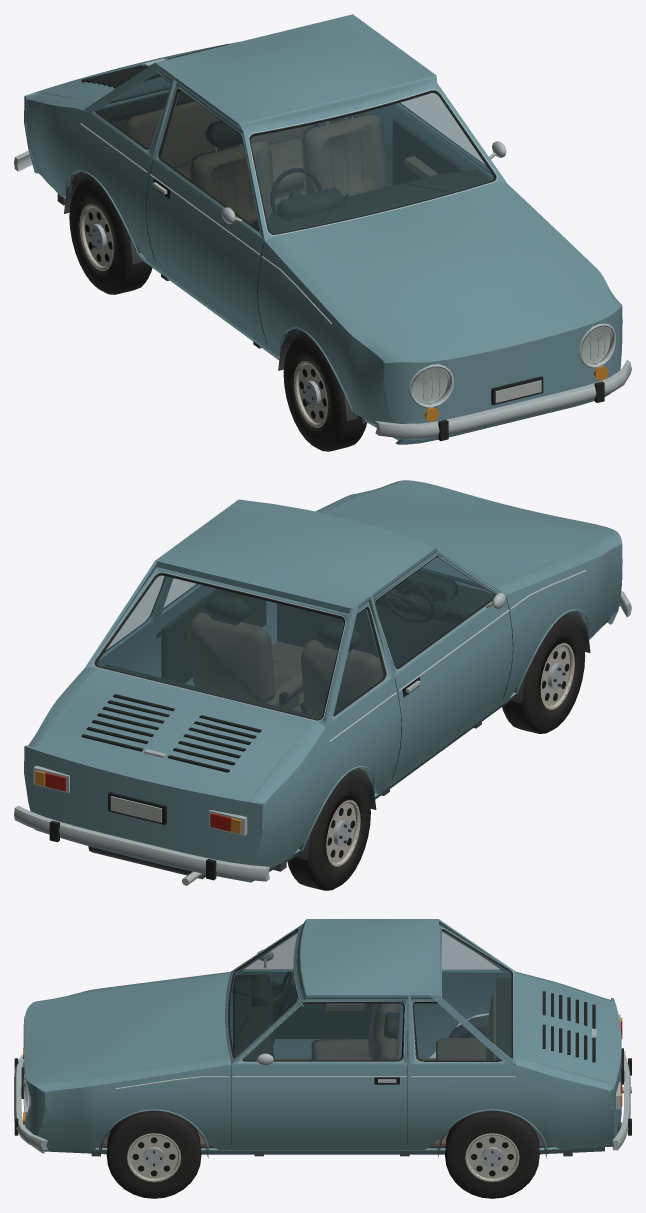
Rendered from marten.glb.
3 renders of one model, top to bottom at view 1: azimuth 30°, elevation 25°; view 2: azimuth 150°, elevation 25°; view 3: azimuth 270°, elevation 25°, orthographic. The views are drawn at different scales.
Parts seen in each view (by area): view 1: panel_hoodMarten, glass_FrontMarten, panel_RoofMarten, panel_BodyDoorLMarten, panel_FrontValanceMarten, panel_RearWingLMarten, panel_FrontWingLMarten, glass_BodyDoorLMarten, Interior Marten seat back 1, Interior Marten seat back -1, Tire_Rook_RL, Tire_Rook_FL (+29 smaller); view 2: glass_RearMarten, panel_EngineLidMarten, panel_RoofMarten, panel_hoodMarten, panel_RearValanceMarten, panel_BodyDoorLMarten, panel_RearWingLMarten, panel_FrontWingLMarten, glass_BodyDoorLMarten, Interior Marten seat back 1, Structure Marten front bulkhead, Tire_Rook_RL (+33 smaller); view 3: panel_hoodMarten, panel_BodyDoorRMarten, panel_RearWingRMarten, panel_RoofMarten, panel_FrontWingRMarten, panel_EngineLidMarten, glass_BodyDoorRMarten, glass_RearMarten, glass_FrontMarten, Tire_Rook_FR, Tire_Rook_RR, panel_RearWingLMarten (+32 smaller).
Boxes of the visible parts, bbox=[...] form: panel_hoodMarten: bbox=[280, 183, 617, 365]; glass_FrontMarten: bbox=[250, 93, 493, 233]; panel_RoofMarten: bbox=[155, 14, 436, 126]; panel_BodyDoorLMarten: bbox=[146, 159, 269, 350]; panel_FrontValanceMarten: bbox=[381, 304, 622, 444]; panel_RearWingLMarten: bbox=[26, 99, 157, 268]; panel_FrontWingLMarten: bbox=[258, 242, 393, 424]; glass_BodyDoorLMarten: bbox=[161, 91, 259, 229]; Interior Marten seat back 1: bbox=[300, 114, 387, 196]; Interior Marten seat back -1: bbox=[189, 142, 274, 224]; Tire_Rook_RL: bbox=[69, 177, 152, 294]; Tire_Rook_FL: bbox=[283, 334, 366, 451]; glass_RearMarten: bbox=[97, 575, 343, 719]; panel_EngineLidMarten: bbox=[36, 668, 310, 804]; panel_RoofMarten: bbox=[155, 499, 436, 610]; panel_hoodMarten: bbox=[329, 480, 616, 586]; panel_RearValanceMarten: bbox=[24, 745, 264, 882]; panel_BodyDoorLMarten: bbox=[389, 596, 512, 785]; panel_RearWingLMarten: bbox=[256, 677, 400, 868]; panel_FrontWingLMarten: bbox=[501, 544, 620, 704]; glass_BodyDoorLMarten: bbox=[375, 557, 493, 667]; Interior Marten seat back 1: bbox=[189, 612, 275, 702]; Structure Marten front bulkhead: bbox=[277, 603, 455, 667]; Tire_Rook_RL: bbox=[287, 773, 370, 890]; panel_hoodMarten: bbox=[24, 974, 229, 1086]; panel_BodyDoorRMarten: bbox=[231, 1064, 407, 1149]; panel_RearWingRMarten: bbox=[407, 1064, 613, 1149]; panel_RoofMarten: bbox=[300, 919, 438, 997]; panel_FrontWingRMarten: bbox=[40, 1064, 231, 1149]; panel_EngineLidMarten: bbox=[516, 974, 621, 1086]; glass_BodyDoorRMarten: bbox=[245, 1003, 403, 1060]; glass_RearMarten: bbox=[442, 931, 511, 1057]; glass_FrontMarten: bbox=[230, 931, 297, 1057]; Tire_Rook_FR: bbox=[106, 1110, 201, 1198]; Tire_Rook_RR: bbox=[445, 1110, 539, 1198]; panel_RearWingLMarten: bbox=[413, 974, 510, 1058].
Size of the model in its own units: 1.72 by 1.51 by 4.17.
